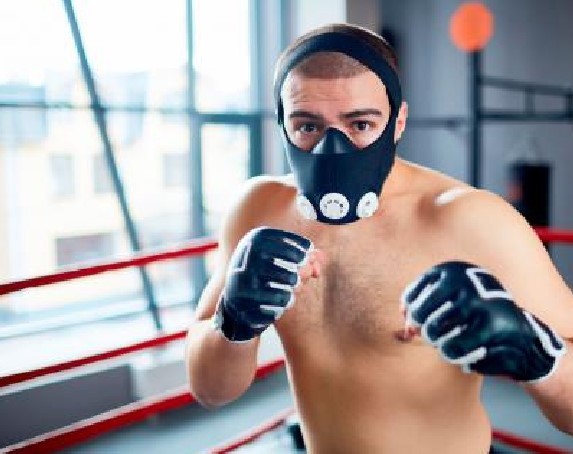face_with_mask: (279, 27, 411, 228)
